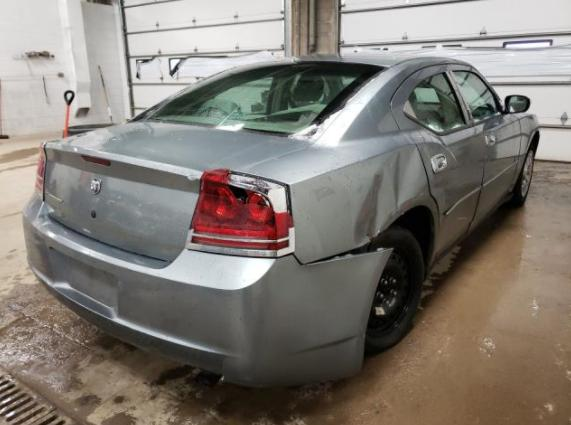Back-bumper: (22, 195, 393, 386)
Back-door: (390, 64, 484, 260)
Back-wheel: (366, 228, 425, 351)
Back-window: (404, 73, 466, 133)
Back-windshield: (130, 61, 387, 142)
Fender: (509, 112, 541, 196)
Front-door: (444, 64, 522, 233)
Front-wheel: (512, 143, 535, 207)
Front-window: (454, 72, 500, 119)
Mirror: (503, 94, 531, 114)
Quarter-panel: (239, 132, 440, 270)
Rocker-panel: (427, 195, 511, 280)
Roof: (252, 52, 456, 68)
Tail-light: (185, 168, 295, 258), (35, 142, 47, 204)
Trunk: (44, 120, 312, 261)
